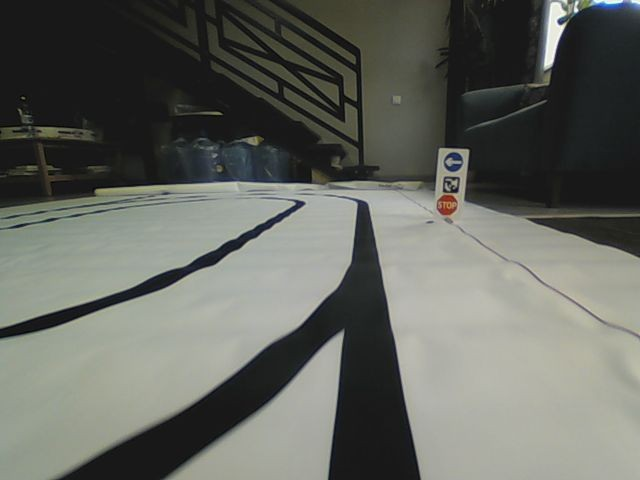Stop: (436, 194, 458, 216)
